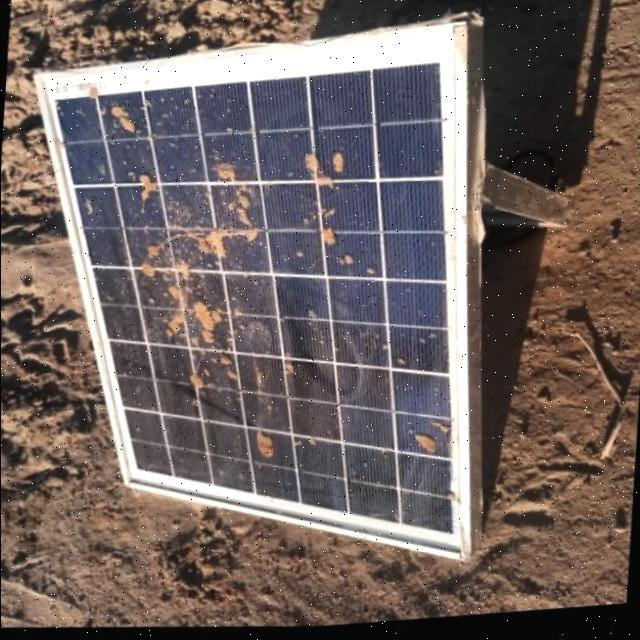Anomaly Solar Panel: (48, 48, 459, 553)
Surface Contaminant: (81, 68, 391, 485)
